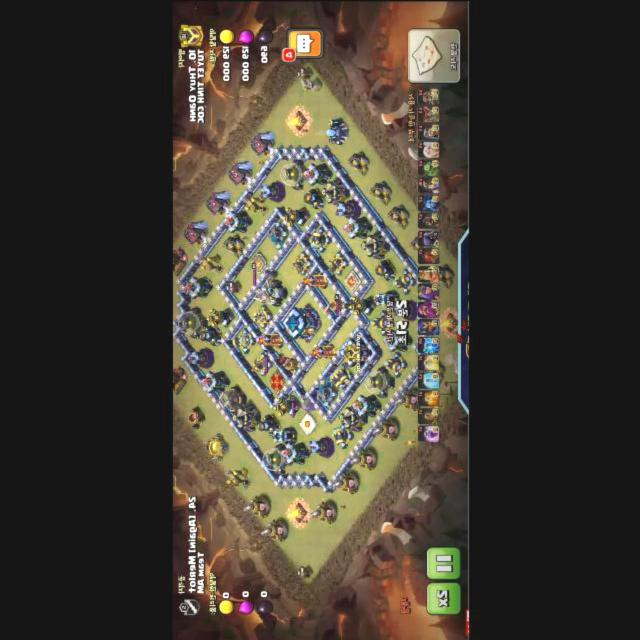AD: (280, 205, 310, 226), (347, 294, 377, 315), (204, 306, 234, 326), (271, 396, 299, 417)
AirSweeper: (323, 294, 346, 314), (281, 355, 302, 374)
BombTower: (268, 426, 296, 444), (372, 290, 399, 307)
Canon: (329, 362, 354, 390), (383, 351, 408, 378), (231, 327, 255, 354), (369, 309, 393, 336), (391, 267, 415, 294), (308, 225, 331, 251), (331, 422, 354, 448)
ClanCastle: (337, 336, 371, 366)
Eagle: (252, 278, 287, 306)
Inferno: (311, 343, 336, 360), (257, 332, 282, 348), (302, 272, 327, 288)
KingPad: (342, 269, 360, 292)
Mortar: (256, 413, 280, 436), (301, 187, 325, 210), (198, 323, 222, 346), (374, 258, 396, 280)
QueenPad: (267, 370, 286, 395)
RcPad: (249, 252, 266, 272)
Scattershot: (265, 221, 290, 249), (315, 377, 339, 406)
TH13: (280, 306, 321, 339)
WardenPad: (297, 412, 315, 434)
WizzTower: (187, 346, 214, 368), (308, 436, 335, 457), (334, 198, 361, 219), (392, 298, 417, 320), (258, 181, 284, 202)
Xbow: (326, 250, 349, 275), (251, 303, 273, 329), (251, 351, 273, 376), (290, 250, 312, 275)
